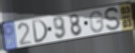2: (17, 22, 33, 47)
8: (69, 13, 83, 37)
9: (52, 15, 67, 40)
D: (31, 19, 49, 44)
G: (89, 10, 105, 34)
S: (104, 7, 122, 31)
